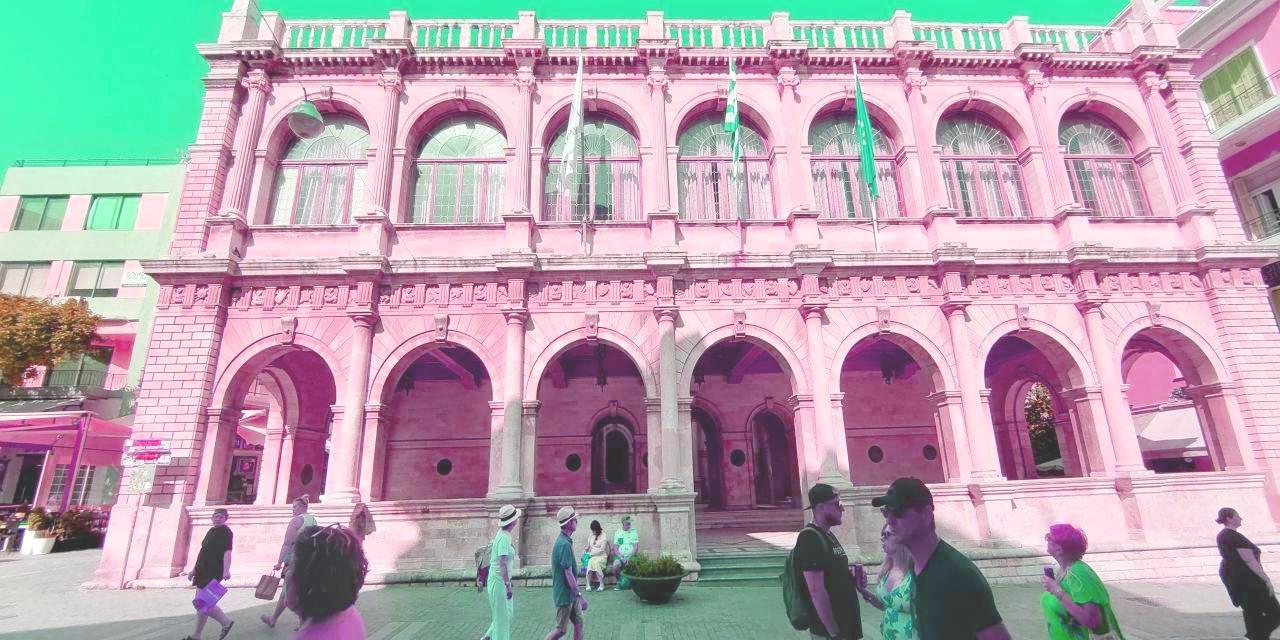Loggia: (76, 1, 1280, 594)
